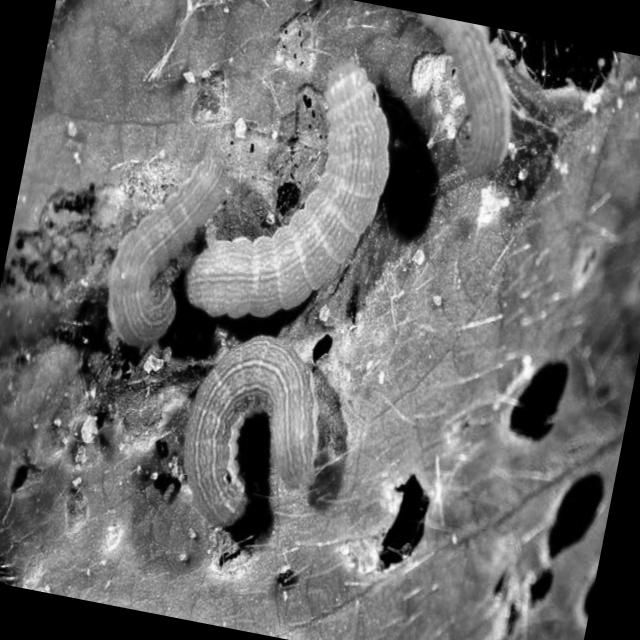Armyworm: (173, 32, 424, 375), (159, 330, 343, 536), (79, 142, 223, 367)
Armyworm_damage: (477, 319, 590, 494), (488, 32, 627, 159), (348, 448, 457, 599), (530, 465, 608, 565)
